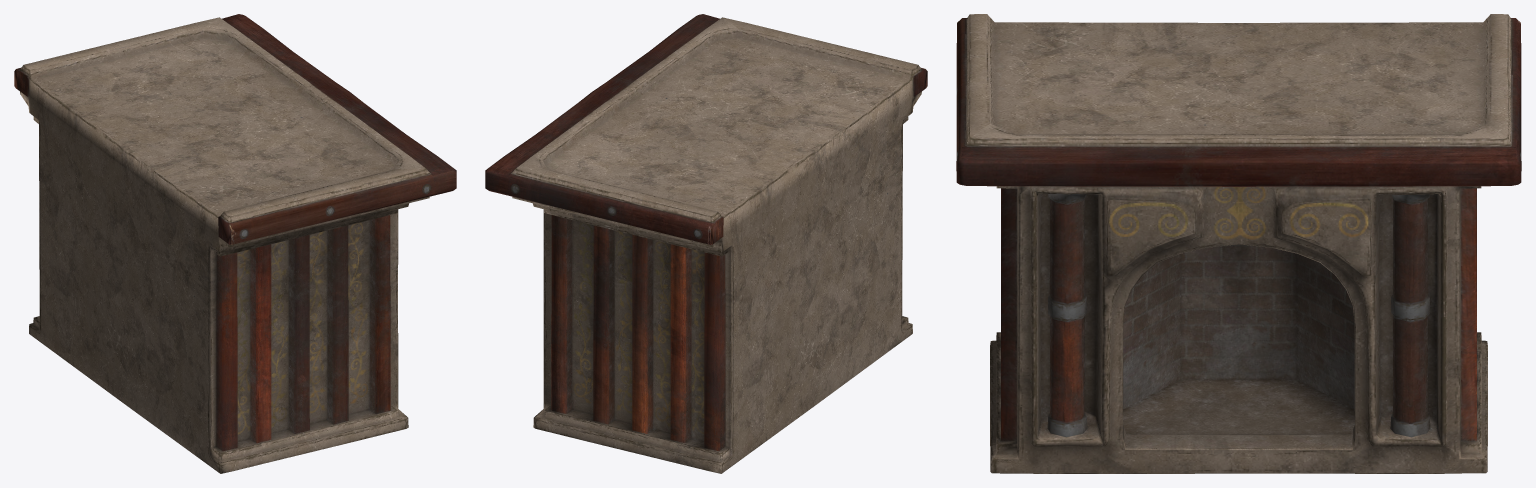
The model's file is fireplace.fbx.
3 renders of one model, left to right at view 1: azimuth 30°, elevation 25°; view 2: azimuth 150°, elevation 25°; view 3: azimuth 270°, elevation 25°, orthographic. The views are drawn at different scales.
Parts seen in each view (by area): view 1: RetopoGroup1; view 2: RetopoGroup1; view 3: RetopoGroup1.
Part boxes in pixels (x1,y1,x2,y2): RetopoGroup1: (14,14,456,473); RetopoGroup1: (485,14,927,473); RetopoGroup1: (956,14,1521,473).
Bounding box in the file's own units: 107 × 118 × 177.
